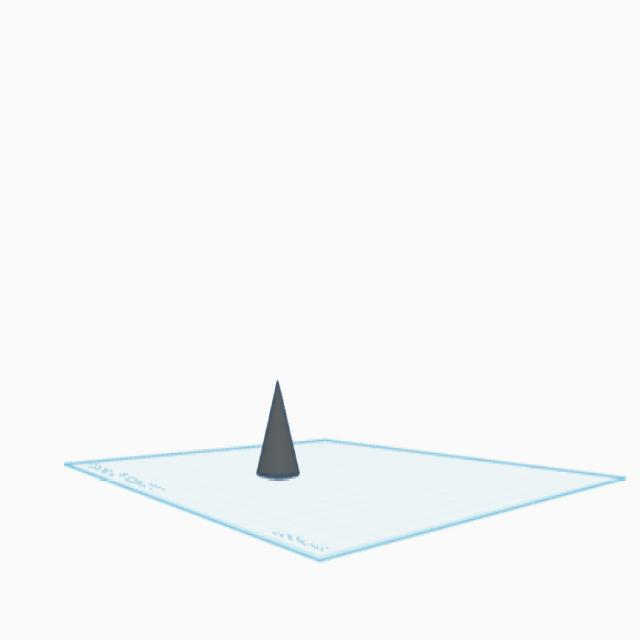cone: (255, 372, 301, 488)
